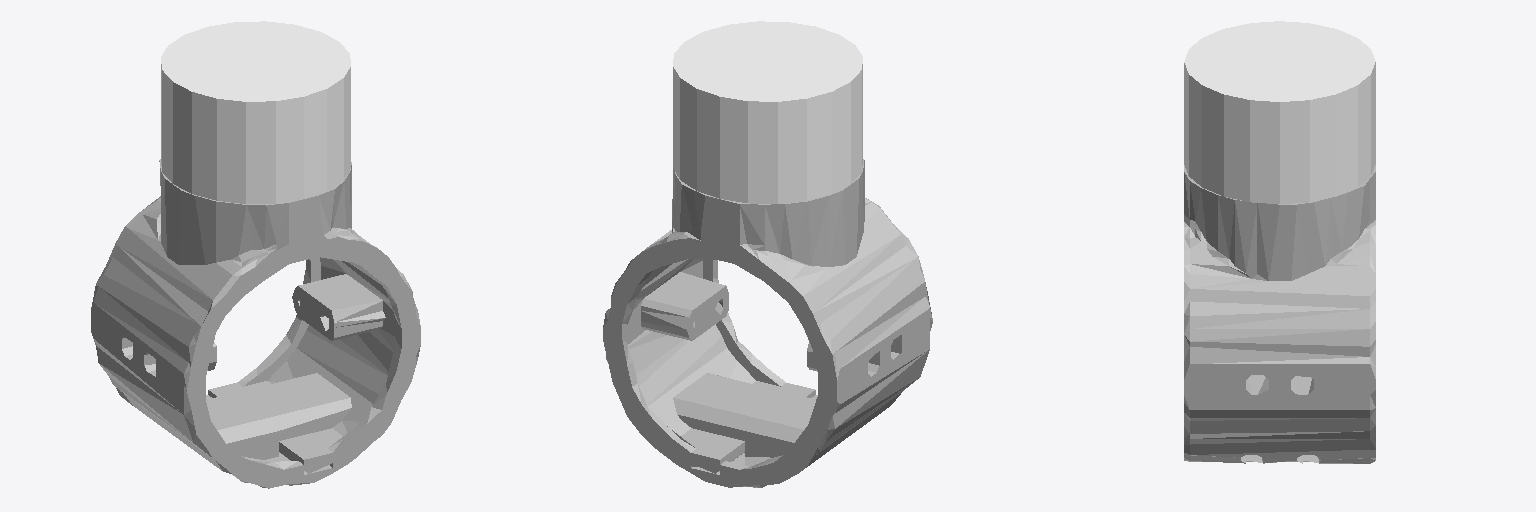
File: combinedWrist.obj
3 renders of one model, left to right at view 1: azimuth 30°, elevation 25°; view 2: azimuth 150°, elevation 25°; view 3: azimuth 270°, elevation 25°, orthographic.
Visible parts, largest first — view 1: wrist_flex, wrist_flex_link_Scene; view 2: wrist_flex, wrist_flex_link_Scene; view 3: wrist_flex, wrist_flex_link_Scene.
Boxes of the visible parts, <box> form: wrist_flex: <box>91,159,420,488</box>; wrist_flex_link_Scene: <box>161,21,350,203</box>; wrist_flex: <box>603,159,932,487</box>; wrist_flex_link_Scene: <box>673,21,862,203</box>; wrist_flex: <box>1184,165,1375,463</box>; wrist_flex_link_Scene: <box>1184,21,1375,203</box>.
Bounding box in the file's own units: 0.048 × 0.0761 × 0.034.